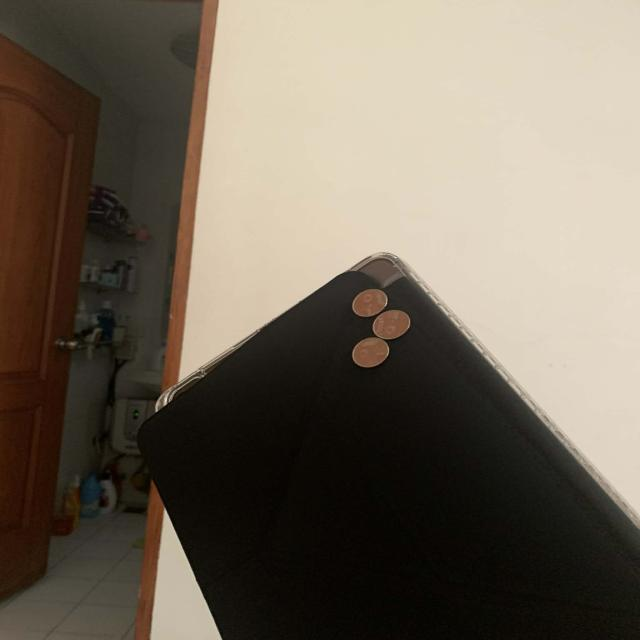25 cents: (350, 284, 389, 318), (352, 337, 390, 369), (373, 309, 411, 340)
